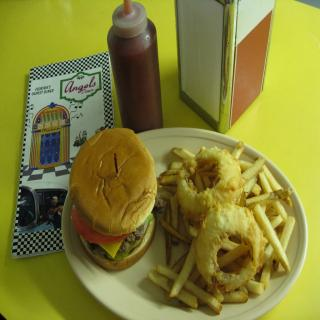French fries: (146, 136, 297, 315)
Hamburger: (70, 127, 158, 270)
